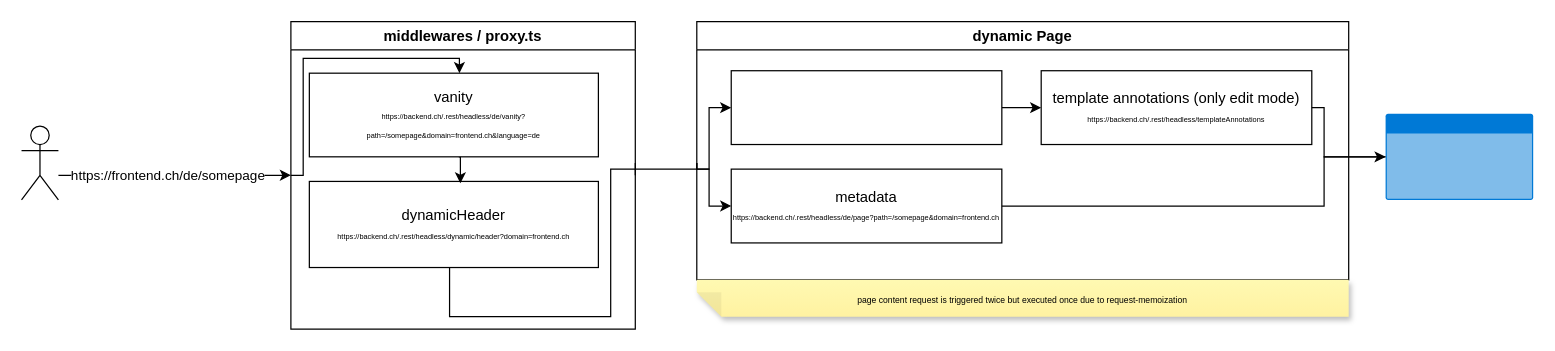
This 1555x351 diagram has some shape labels left out. The shapes that lost their labels are listed below. From the top down, each one's centre as x and y in pixels, then its label:
the point at 866,107: page https://backend.ch/.rest/headless/de/page?path=/somepage&domain=frontend.ch
the point at 1459,156: Page
